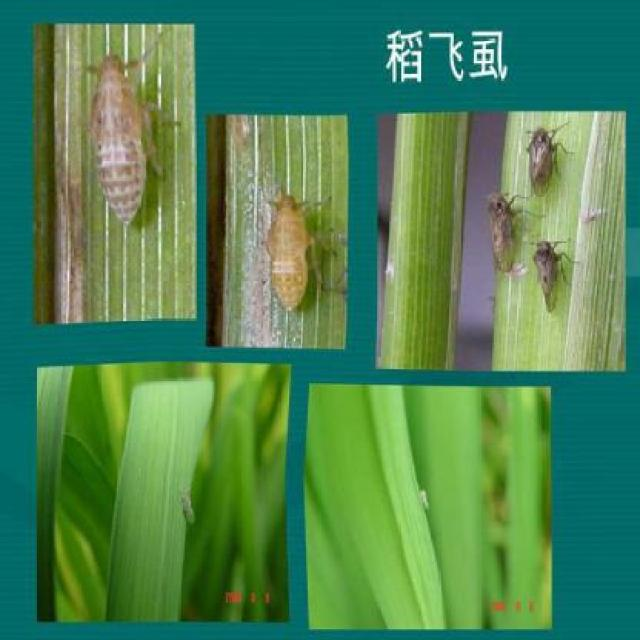brown-planthopper: (84, 45, 162, 227), (264, 198, 314, 313), (532, 237, 570, 314), (482, 186, 516, 272), (526, 122, 562, 196), (180, 488, 198, 526), (415, 484, 433, 514)
